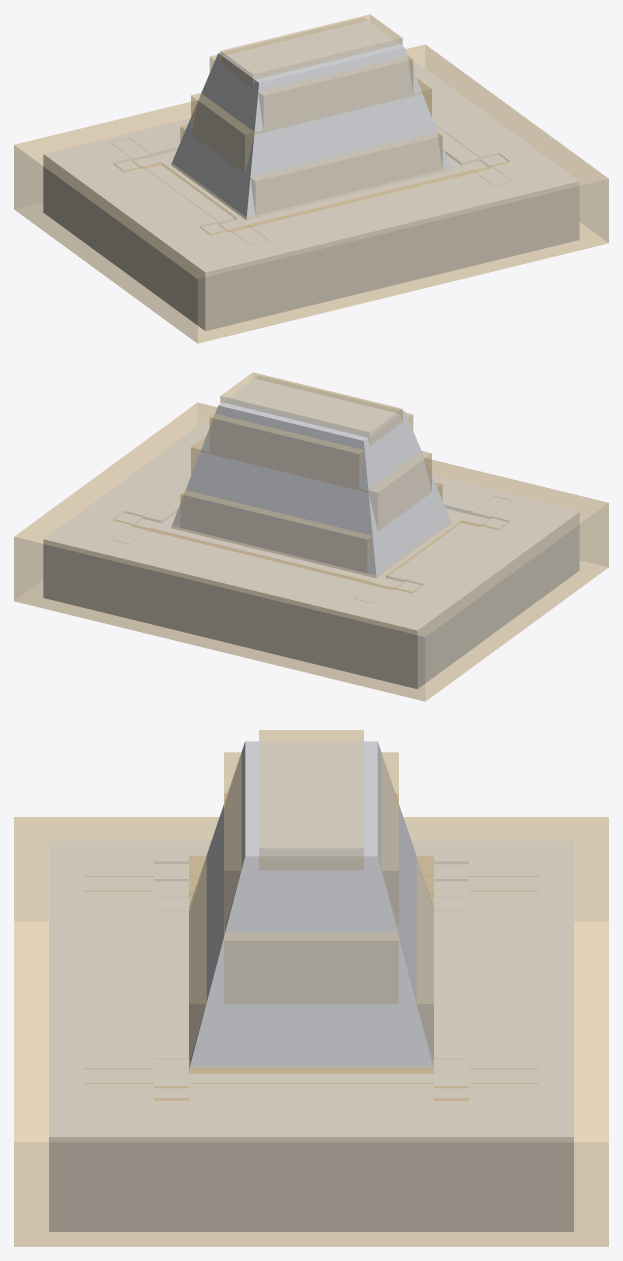
The model's file is boss.cam.glb.
3 views of the same model, one above another, from view 1: azimuth 30°, elevation 25°; view 2: azimuth 150°, elevation 25°; view 3: azimuth 270°, elevation 25° (orthographic). The views are drawn at different scales.
Visible parts, largest first — view 1: stock, part; view 2: stock, part; view 3: stock, part.
Boxes of the visible parts, x1,y1,x2,y2 form: stock: (14, 14, 608, 343); part: (43, 18, 579, 330); stock: (14, 372, 608, 701); part: (43, 376, 579, 688); stock: (14, 730, 608, 1246); part: (49, 741, 573, 1231).
Bounding box in the file's own units: 0.022 × 0.0093 × 0.017.
